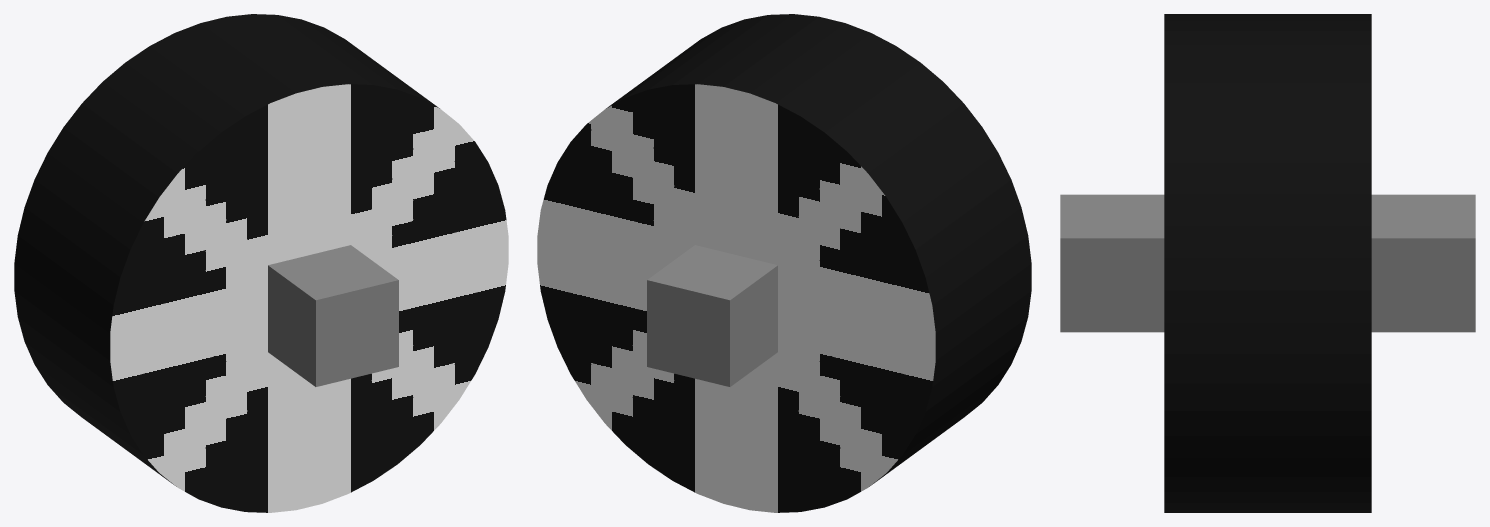
The model's file is wheel steer.obj.
The picture shows the model from 3 angles, left to right: view 1: azimuth 30°, elevation 25°; view 2: azimuth 150°, elevation 25°; view 3: azimuth 270°, elevation 25°; orthographic projection. The views are drawn at different scales.
Visible parts, largest first — view 1: cylinder, cube; view 2: cylinder, cube; view 3: cylinder, cube.
Boxes of the visible parts, x1,y1,x2,y2 form: cylinder: [14, 14, 508, 512]; cube: [268, 245, 398, 386]; cylinder: [537, 14, 1031, 512]; cube: [647, 245, 777, 386]; cylinder: [1164, 14, 1371, 512]; cube: [1060, 194, 1475, 332].
Size of the model in its own units: 1.2 by 1.2 by 1.
1 material, 1 textured.
